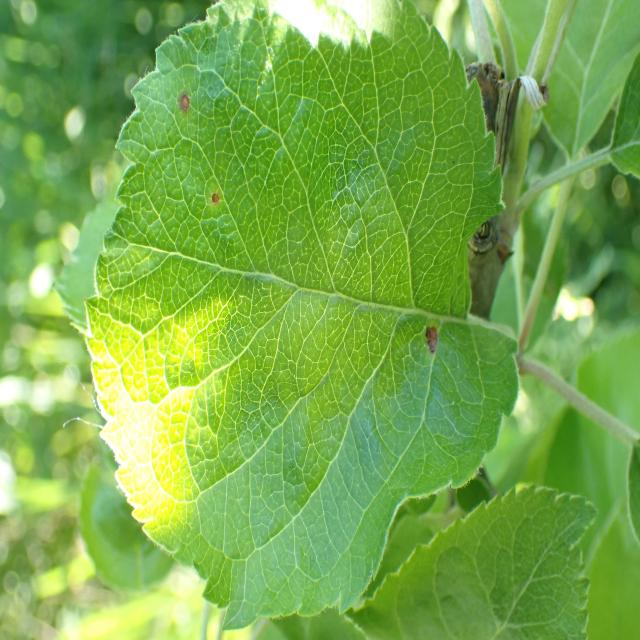Black Rot: (386, 296, 454, 384), (172, 76, 210, 144), (201, 179, 229, 215)
